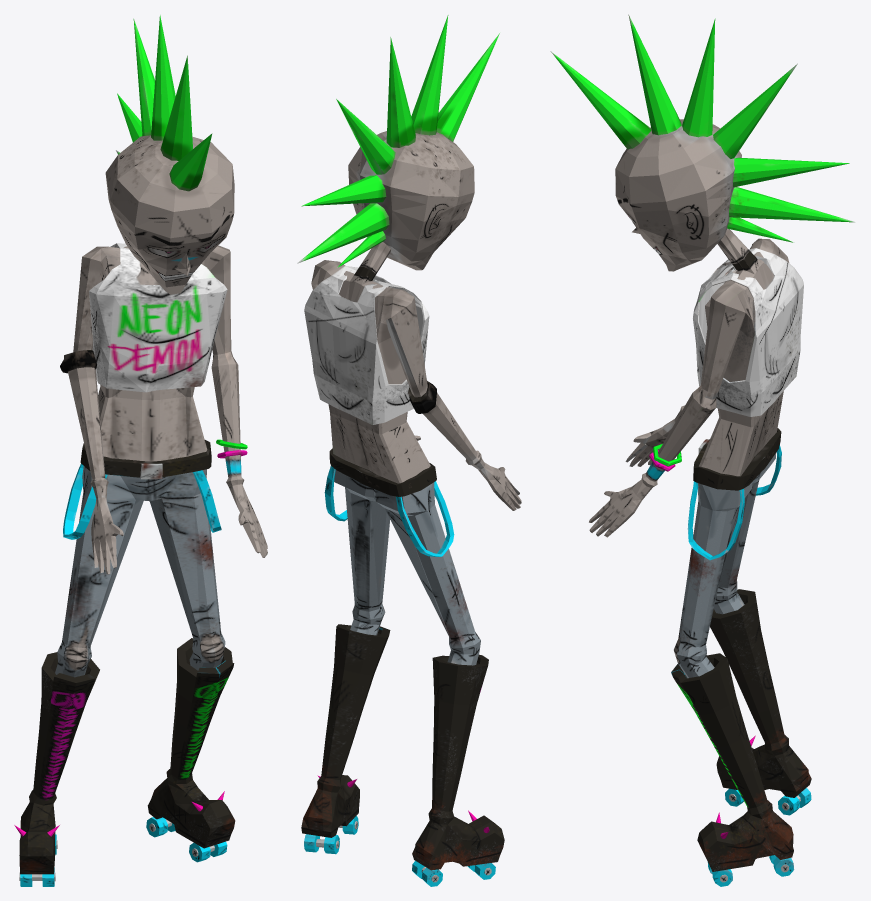
File: punkAnimation_000007.obj
3 views of the same model, side by side, from view 1: azimuth 30°, elevation 25°; view 2: azimuth 150°, elevation 25°; view 3: azimuth 270°, elevation 25° (orthographic). The views are drawn at different scales.
Parts seen in each view (by area): view 1: Cube.004_Cube.003; view 2: Cube.004_Cube.003; view 3: Cube.004_Cube.003.
Part boxes in pixels (<box>): Cube.004_Cube.003: <box>14,15,267,886</box>; Cube.004_Cube.003: <box>297,15,521,886</box>; Cube.004_Cube.003: <box>550,14,855,886</box>.
Bounding box in the file's own units: 1.86 × 7.41 × 2.46.
